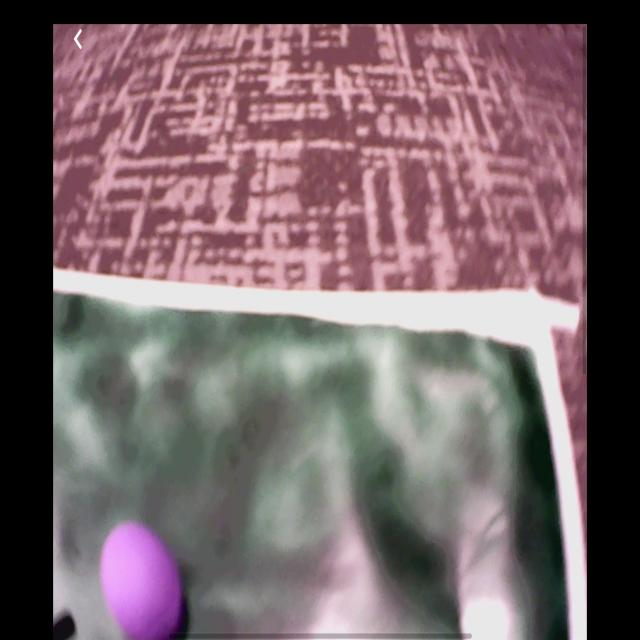ball: (102, 522, 182, 640)
